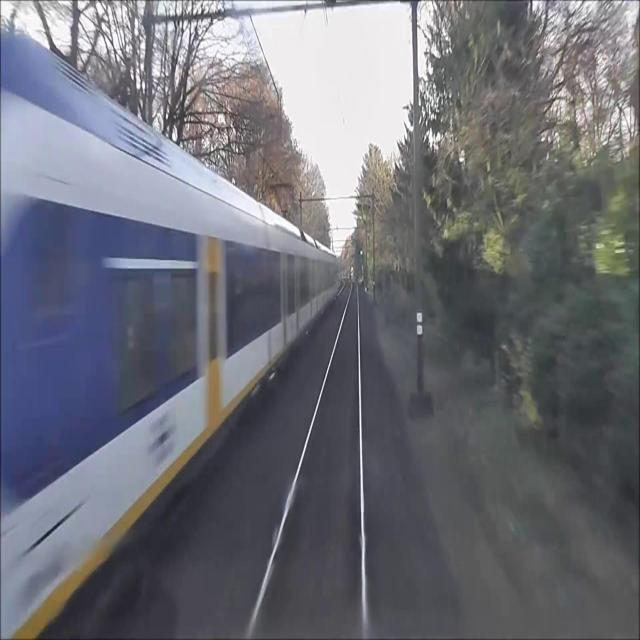rail-track: (250, 281, 362, 639)
